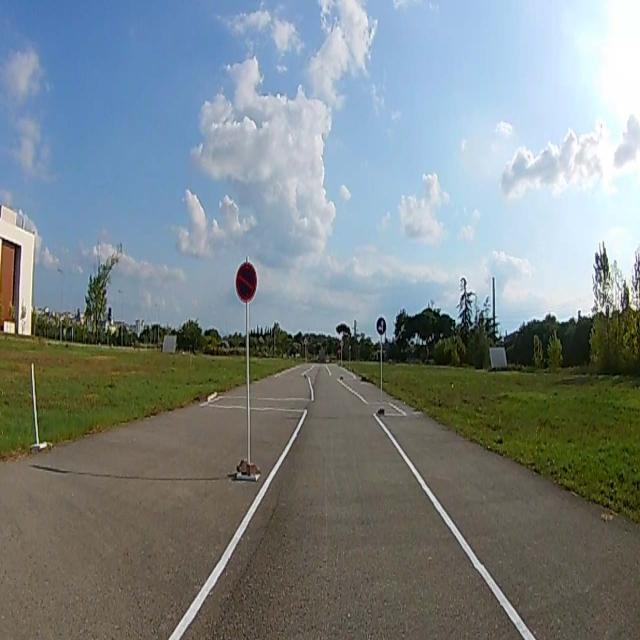parkyasak: (234, 260, 258, 302)
